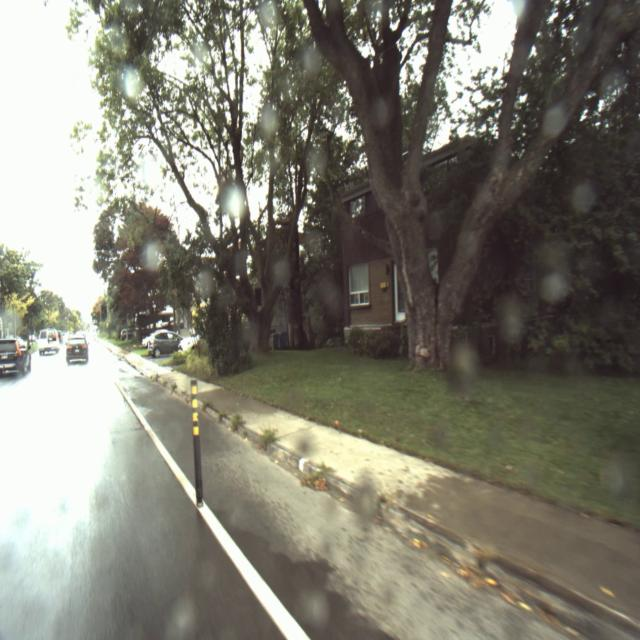car: (1, 337, 34, 378), (147, 330, 182, 357), (66, 336, 90, 367), (37, 330, 61, 358)
